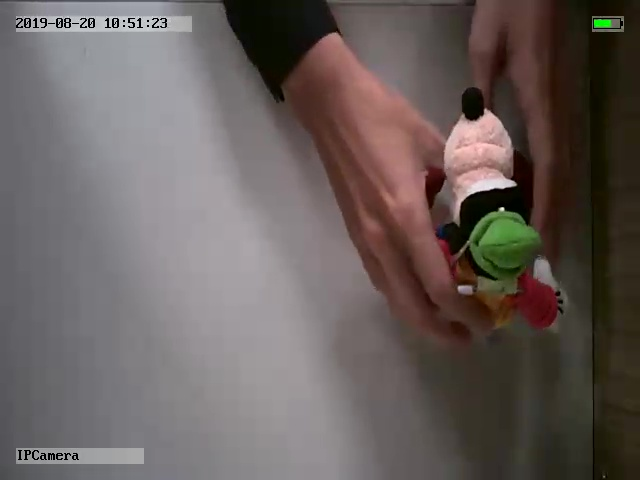goofy: (419, 86, 571, 337)
